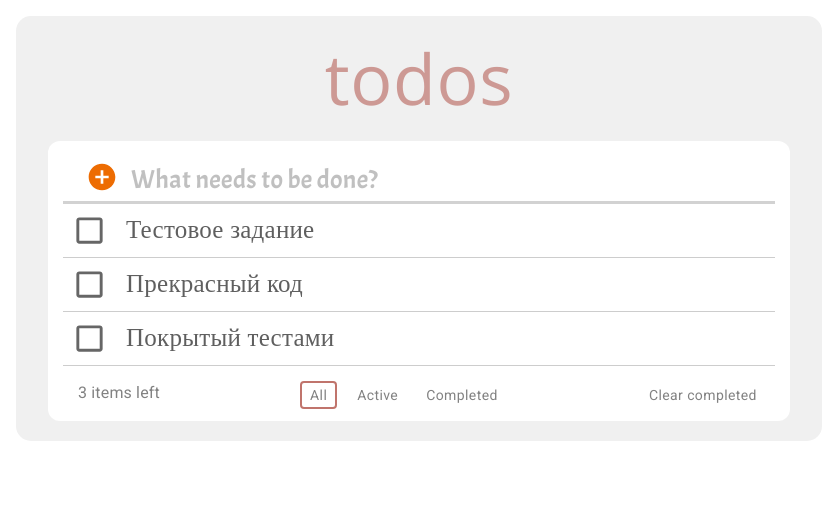
Test: Тестирование добавлениие задачи › добавление задачи при вводе текста
# добавляем новую задачу
Type "новая задача" into the field with test id "add-input" at (453, 184), box [131,168,775,200]
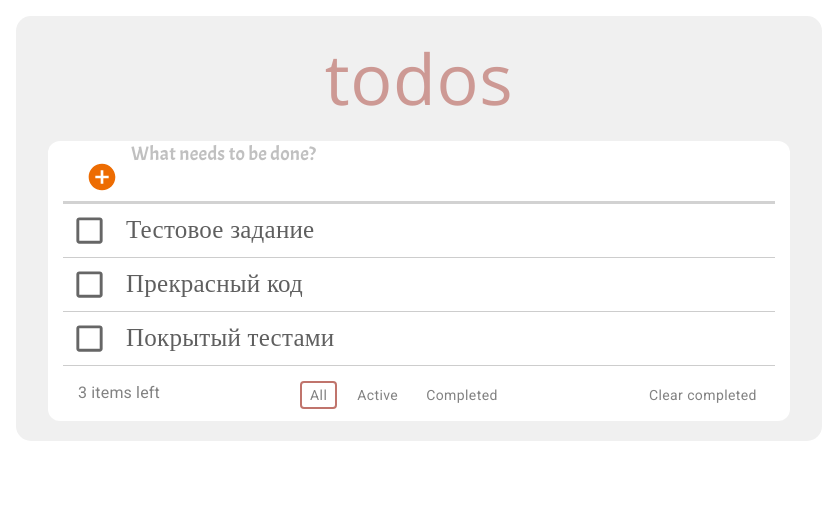
Click the button with test id "add-btn" at (102, 176), box [78,152,126,200]
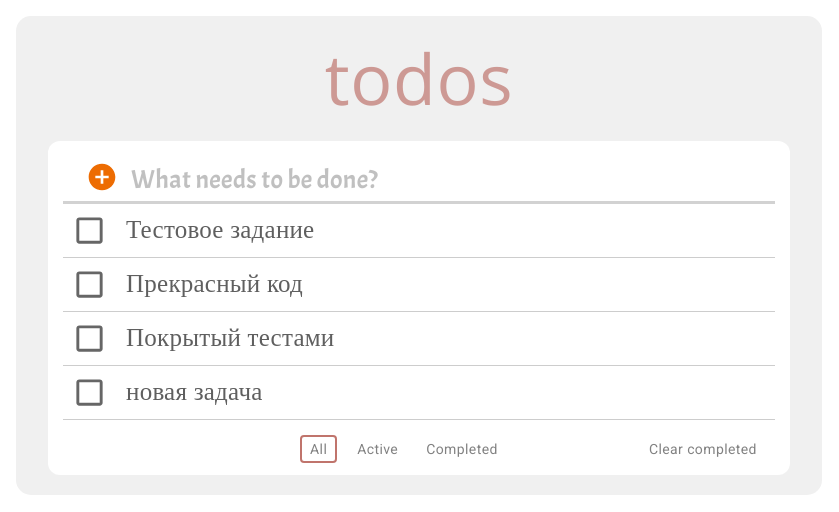
Result: the number of elements with test id "todo-elem" is 4 at [63,204,775,258]; [63,258,775,312]; [63,312,775,366]; [63,366,775,420]
